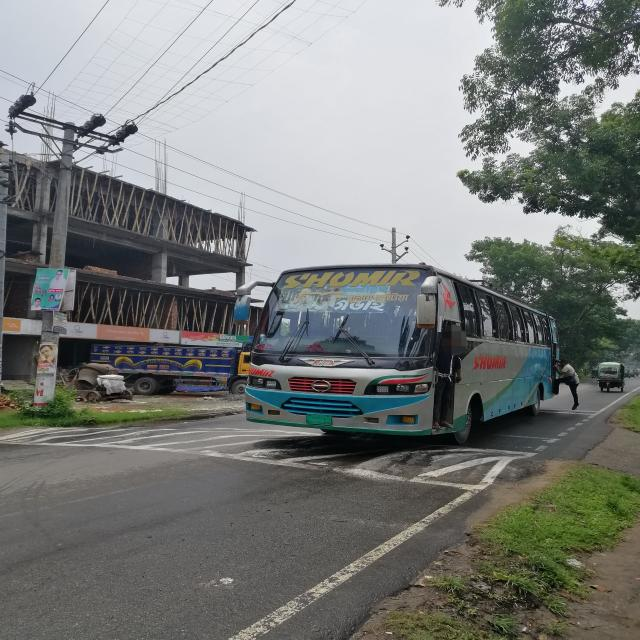Bus: (241, 258, 570, 438)
